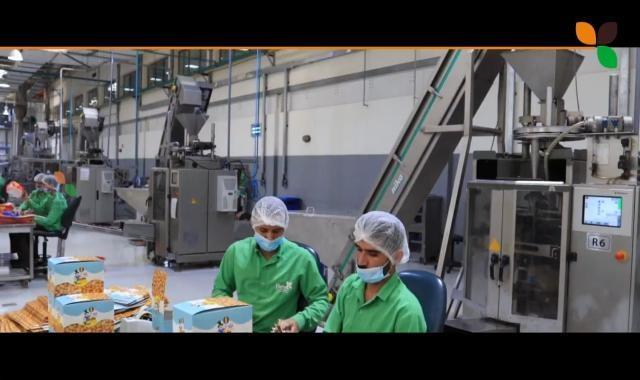gloves: (351, 208, 412, 272), (249, 194, 291, 252), (36, 174, 51, 188)
mask: (247, 220, 291, 260)
no_apron: (272, 314, 310, 332)
no_hairnet: (348, 240, 394, 286)
